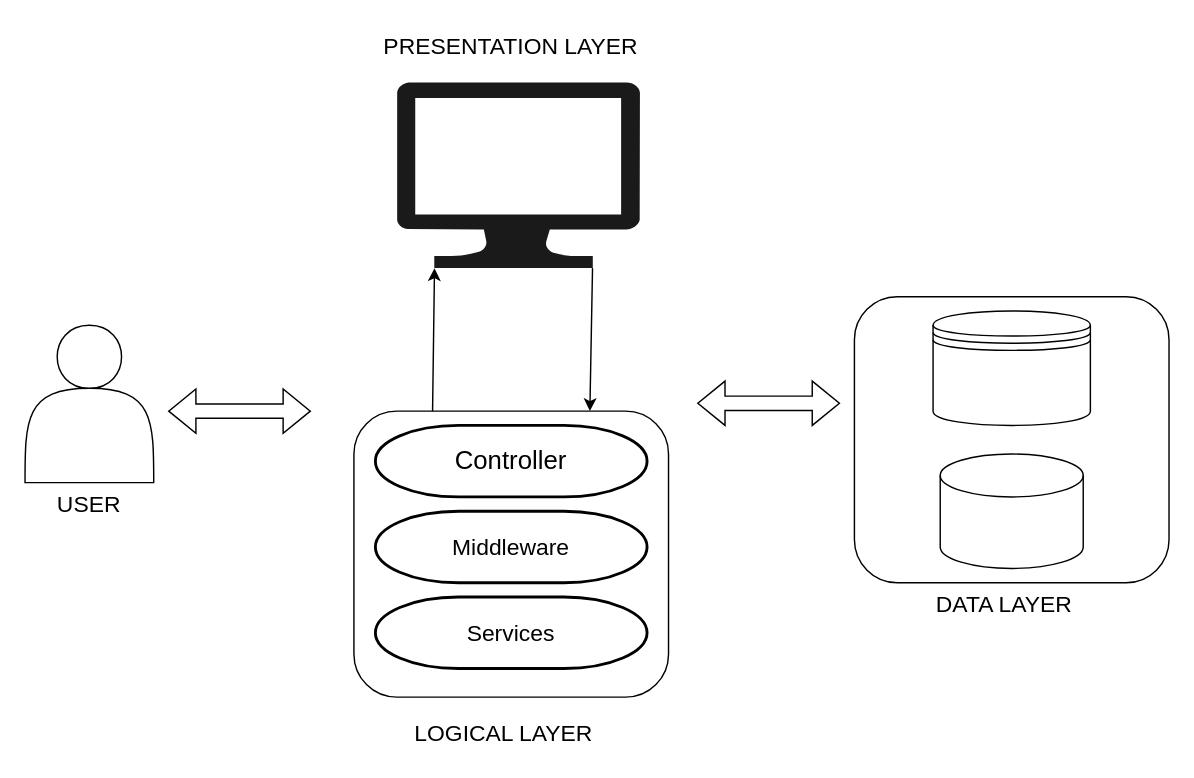
Some shapes in this 1194 by 778 pixel diagram are drawn without their labels. Here are the shapes that lost their labels. From the top down, the centre of each, then its label:
At pixel 1011 367: "DATABASE".
At pixel 1011 510: "Model".
